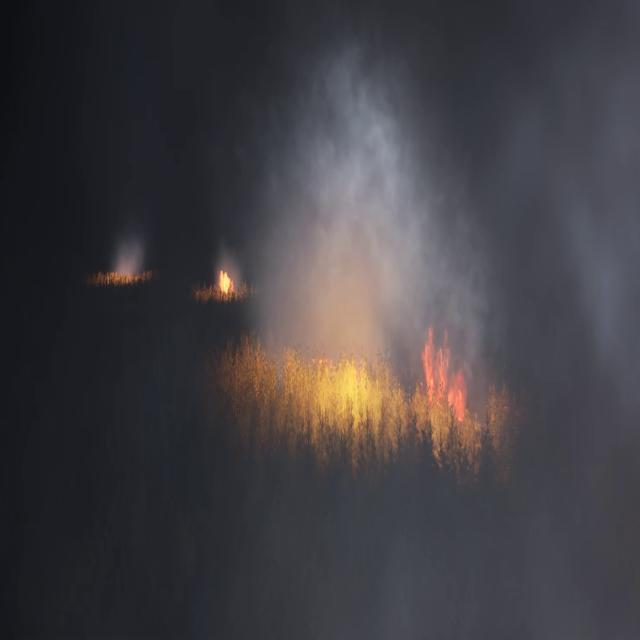fire: (226, 319, 407, 430), (423, 326, 470, 428), (218, 269, 235, 293)
smoke: (215, 0, 639, 639), (111, 228, 149, 279)
